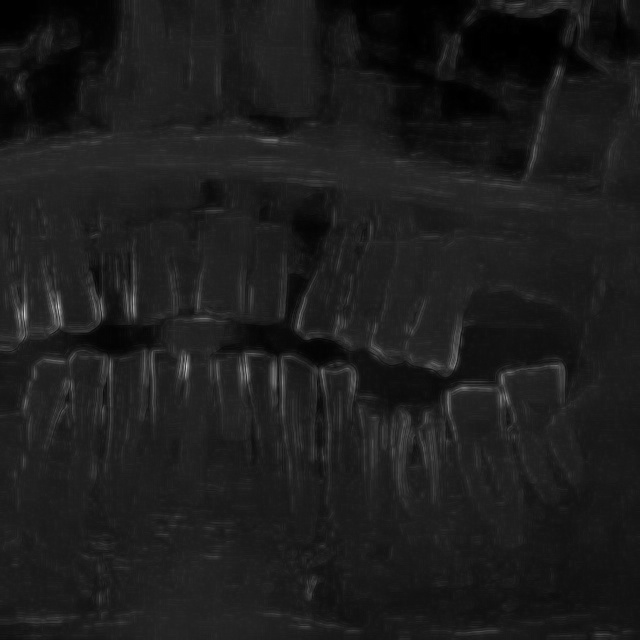Class 0- No endodontic treatment: (355, 372, 470, 540)
cavity: (10, 338, 112, 532)
